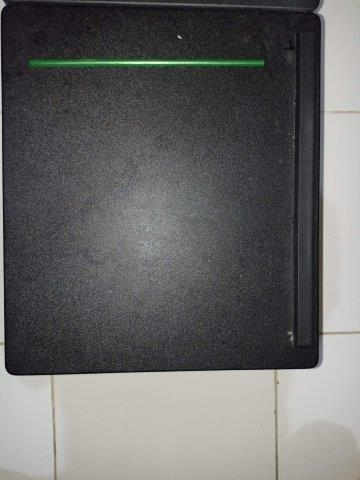sedotan: (30, 58, 264, 67)
